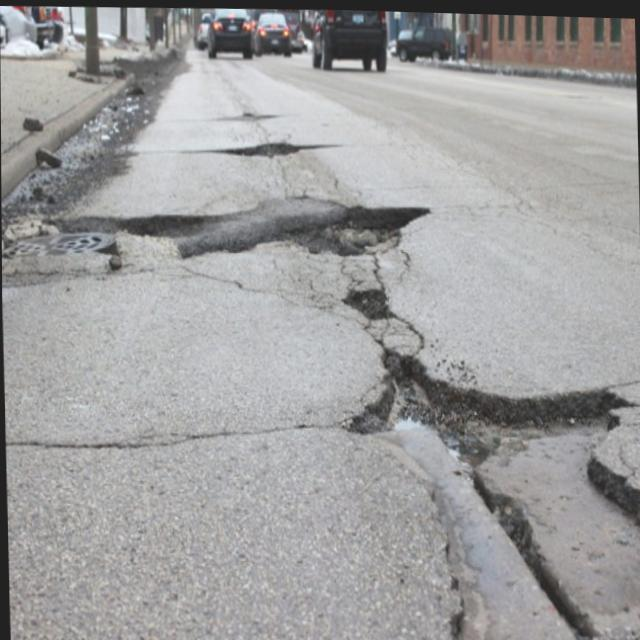Pothole: (343, 343, 640, 640), (44, 195, 431, 259), (202, 142, 343, 159), (344, 290, 393, 322)
